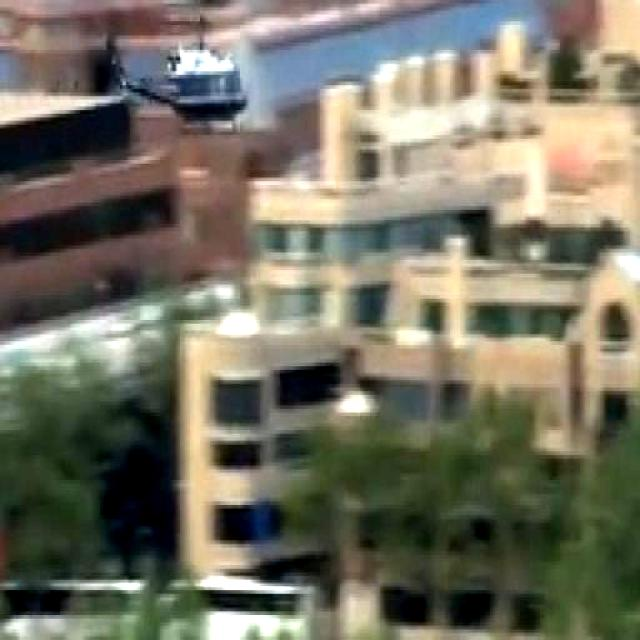drone: (101, 10, 265, 140)
